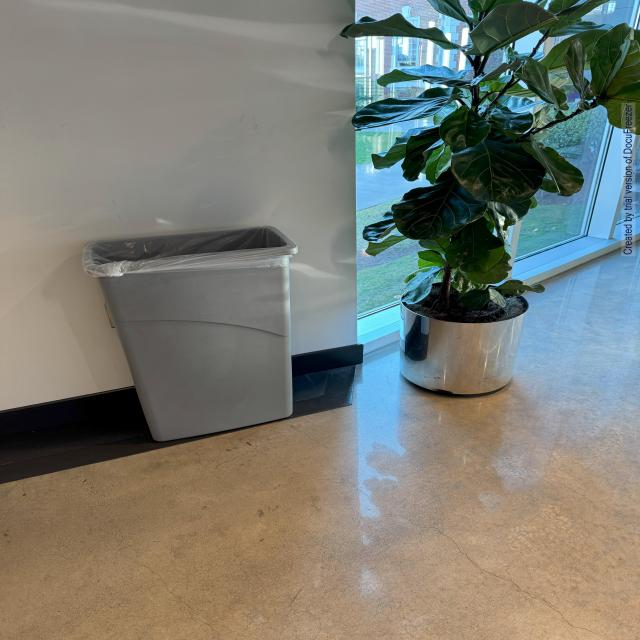Trash bin: (66, 228, 312, 431)
